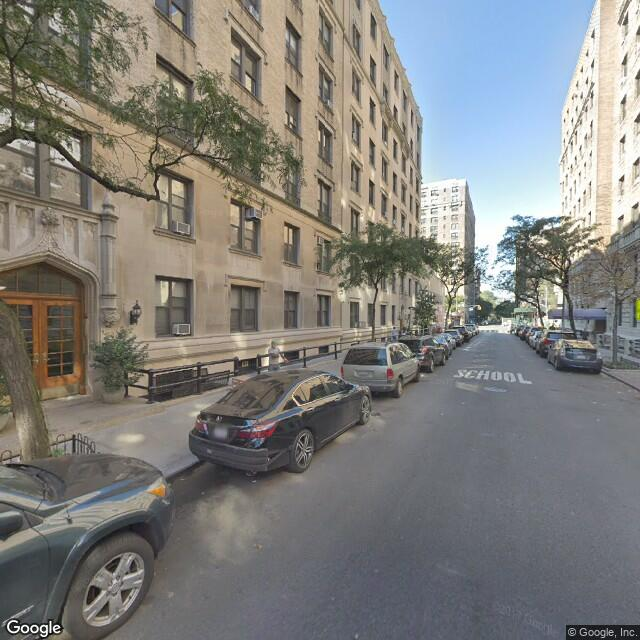window: (157, 168, 194, 236), (156, 276, 193, 334), (231, 35, 263, 97), (232, 203, 260, 257), (230, 285, 257, 332)
